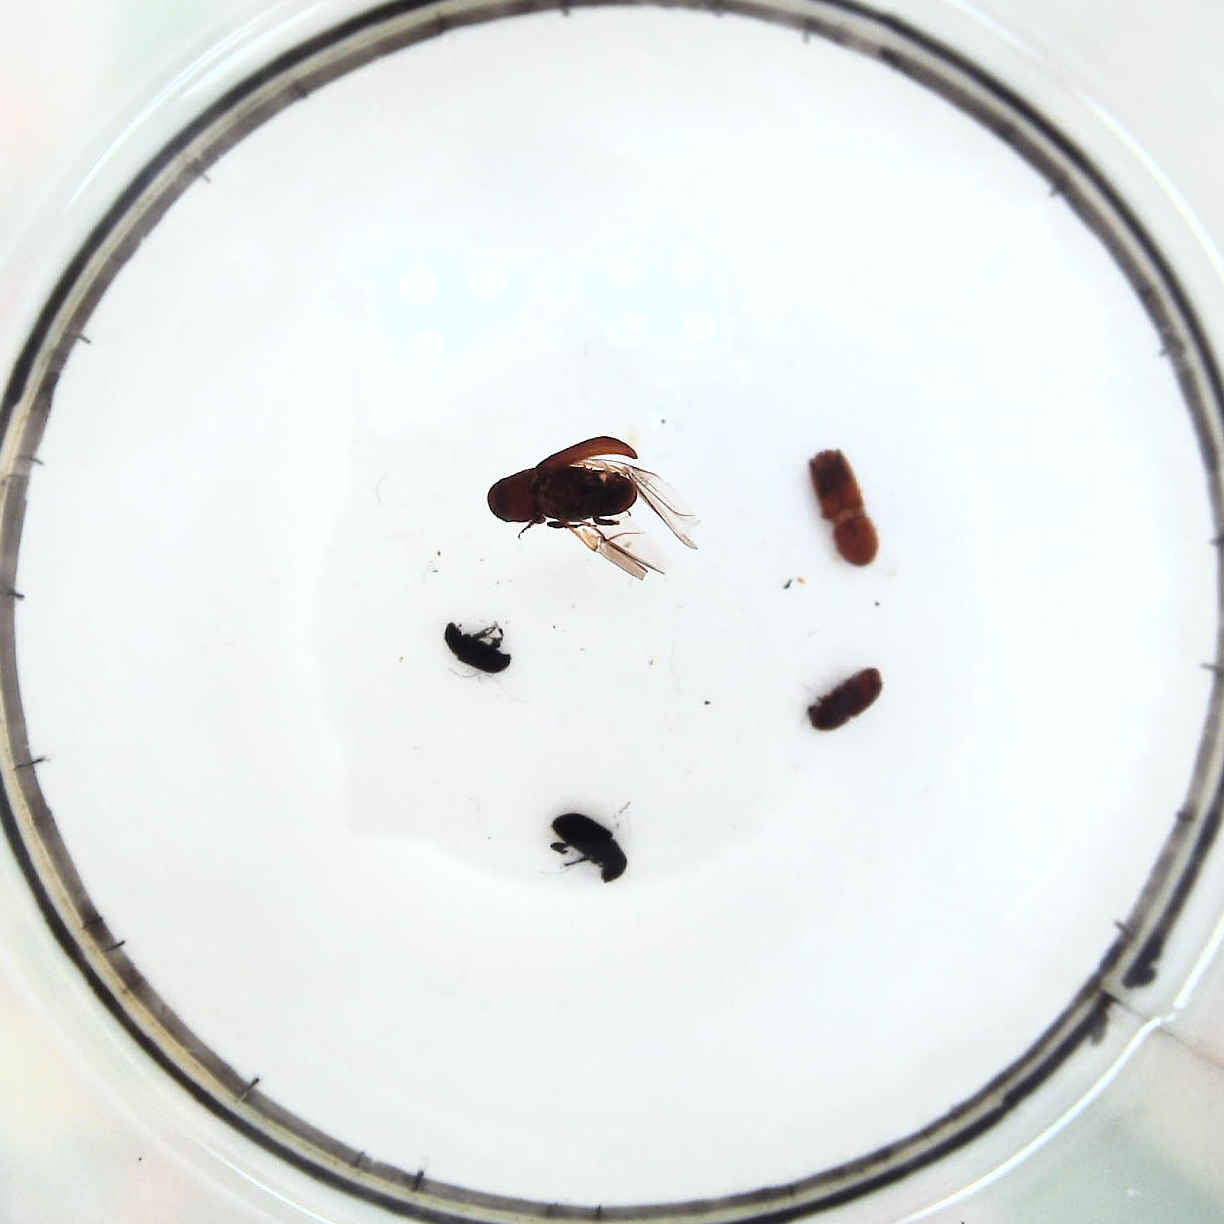Boerner: (806, 444, 885, 564)
Leconte: (484, 432, 697, 579)
Linnaeus: (806, 665, 887, 732)
armandi: (545, 808, 625, 883)
coleoptera: (442, 616, 511, 675)
